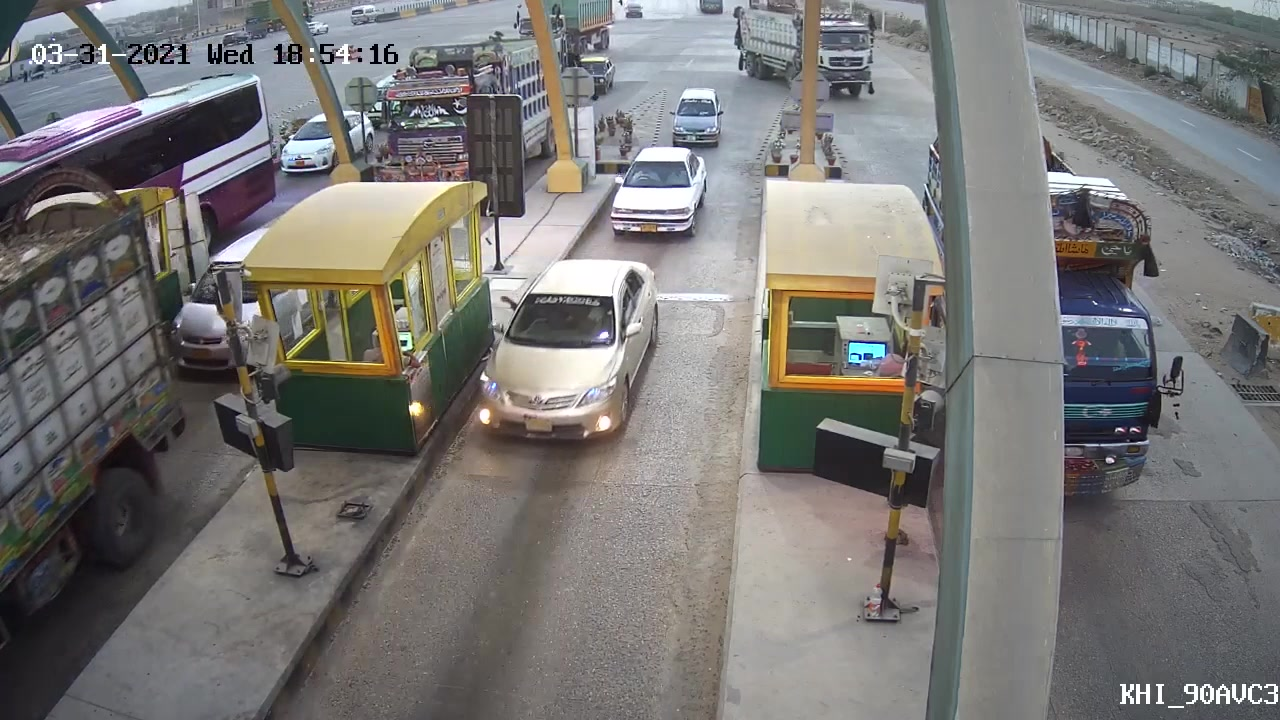F1: (463, 252, 670, 452), (600, 139, 713, 238)
